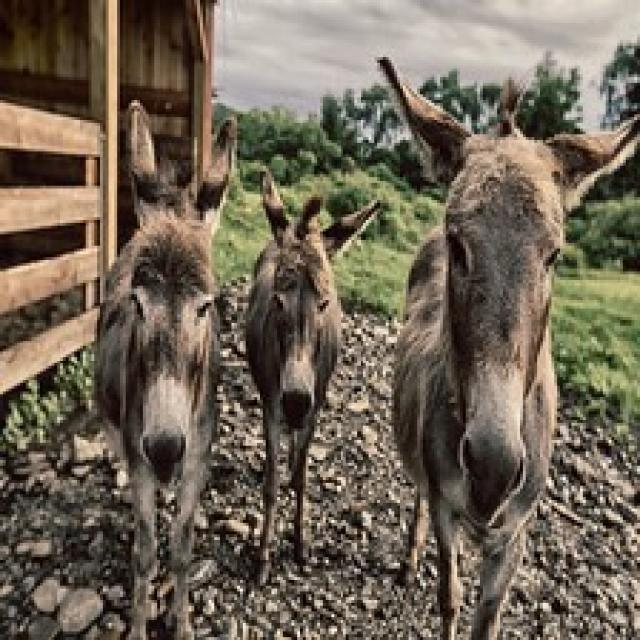Donkey: (374, 54, 637, 637), (91, 97, 238, 637), (243, 165, 380, 586)
